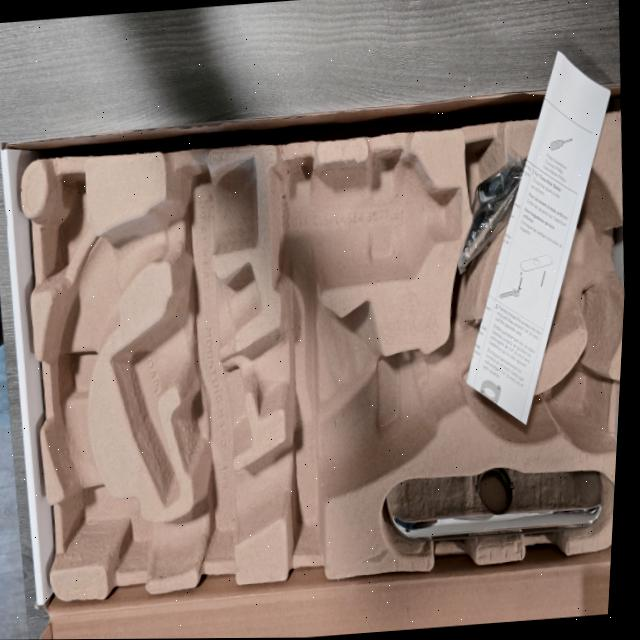1m: (42, 158, 624, 579)
2m: (111, 263, 261, 507)
3m: (270, 151, 463, 290)
4: (384, 464, 602, 542)
5m: (547, 365, 600, 437)
6m: (543, 124, 596, 231)
7o: (460, 141, 542, 275)
8: (466, 47, 611, 425)
